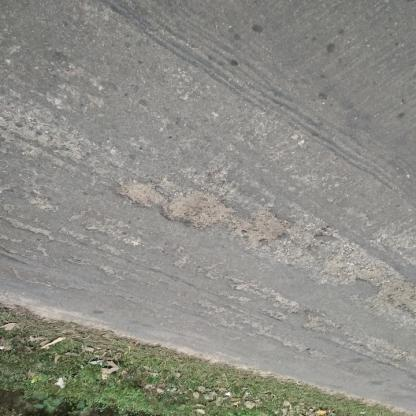pothole: (158, 191, 235, 233), (230, 210, 290, 248), (117, 185, 167, 211), (385, 286, 416, 323)
